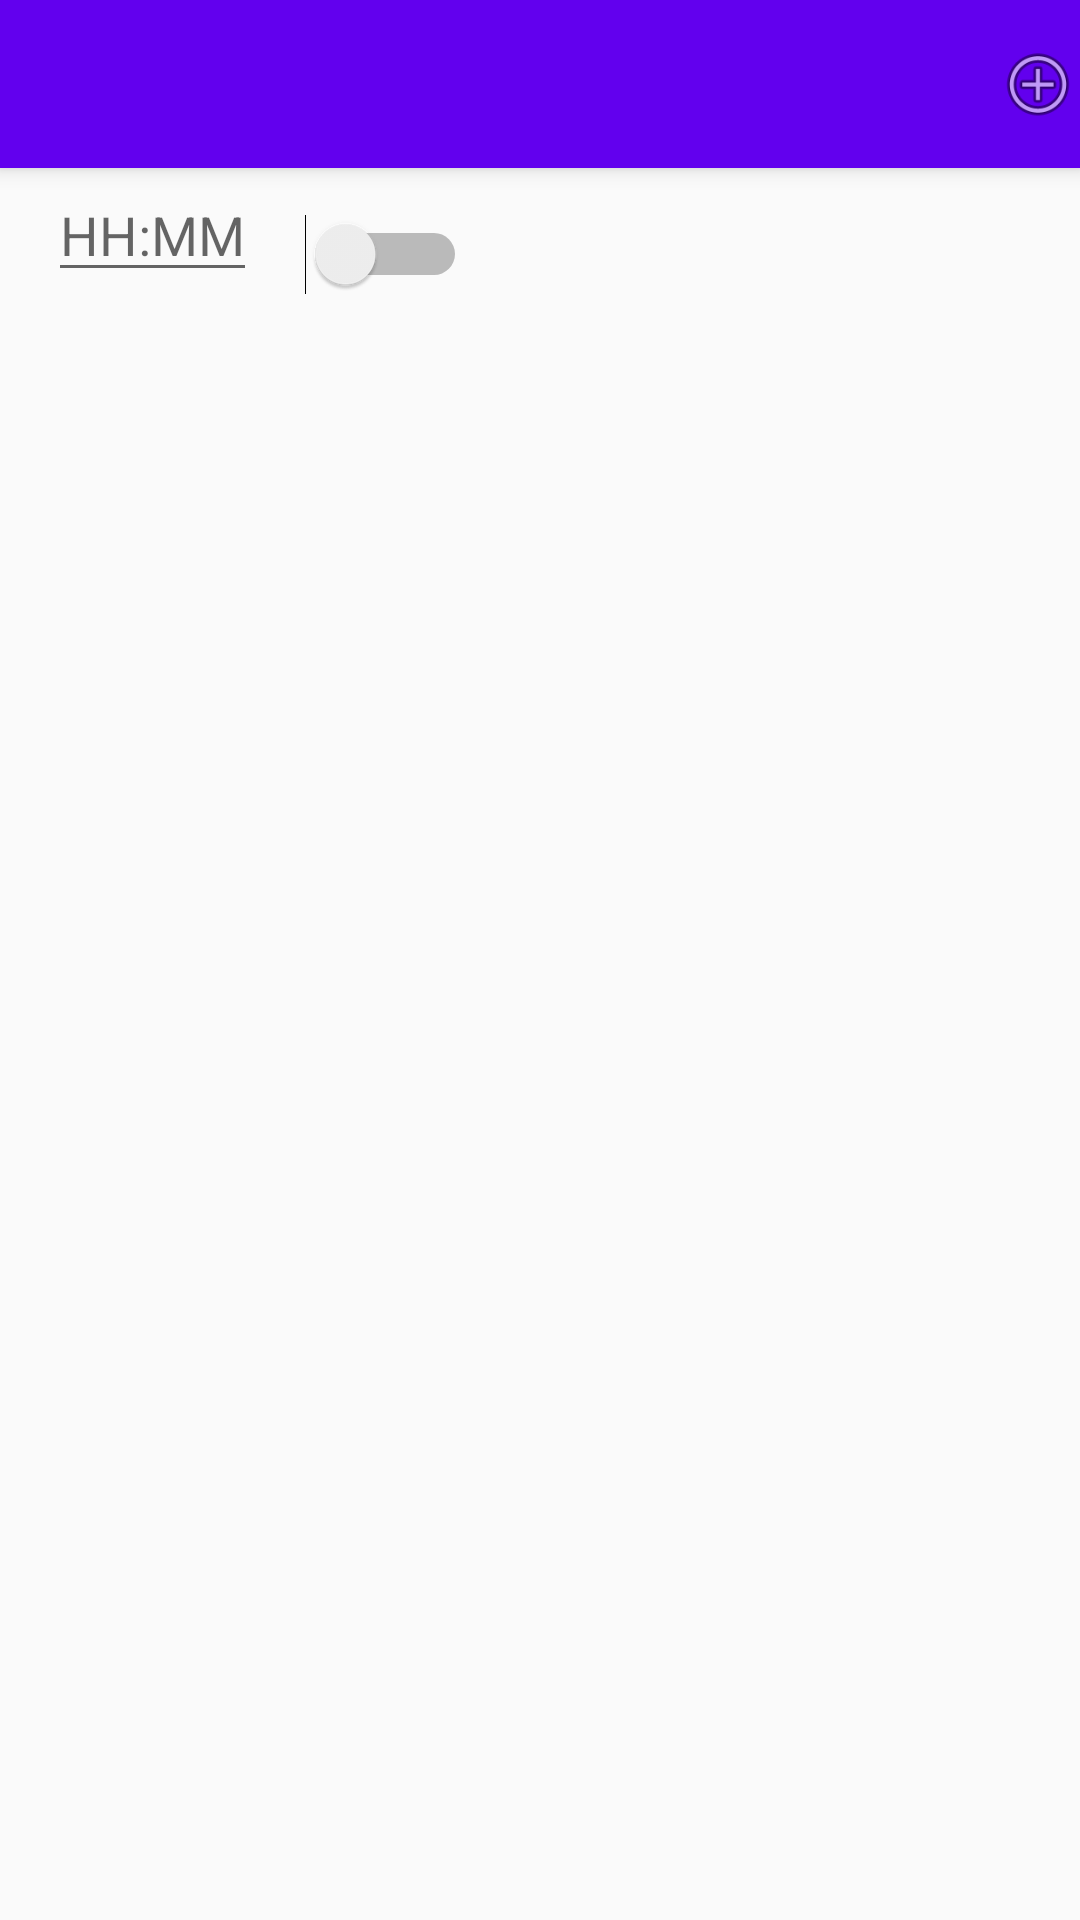

Locate icon controls on the screen. Image size 1080x1920, boxes as (x1, y1, x2, y2).
add: (1007, 53, 1069, 116)
